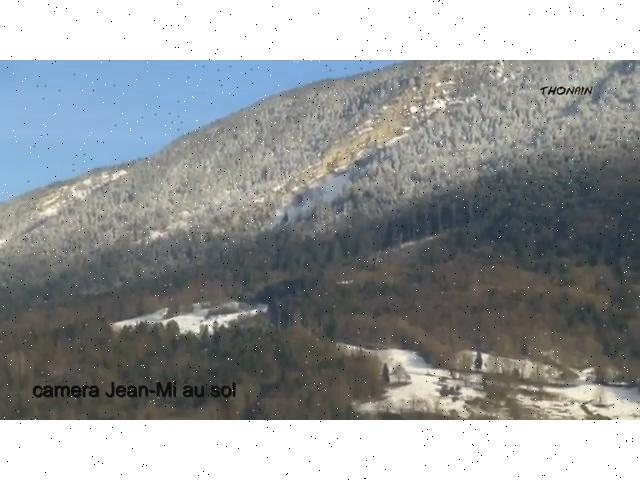Anti-Drone: (327, 275, 367, 290)
